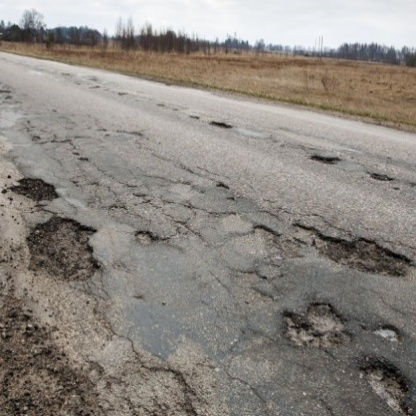pothole: (287, 212, 416, 288), (14, 210, 108, 287), (273, 294, 353, 358), (360, 354, 416, 414), (3, 169, 62, 208), (302, 146, 350, 172), (130, 225, 171, 249)
